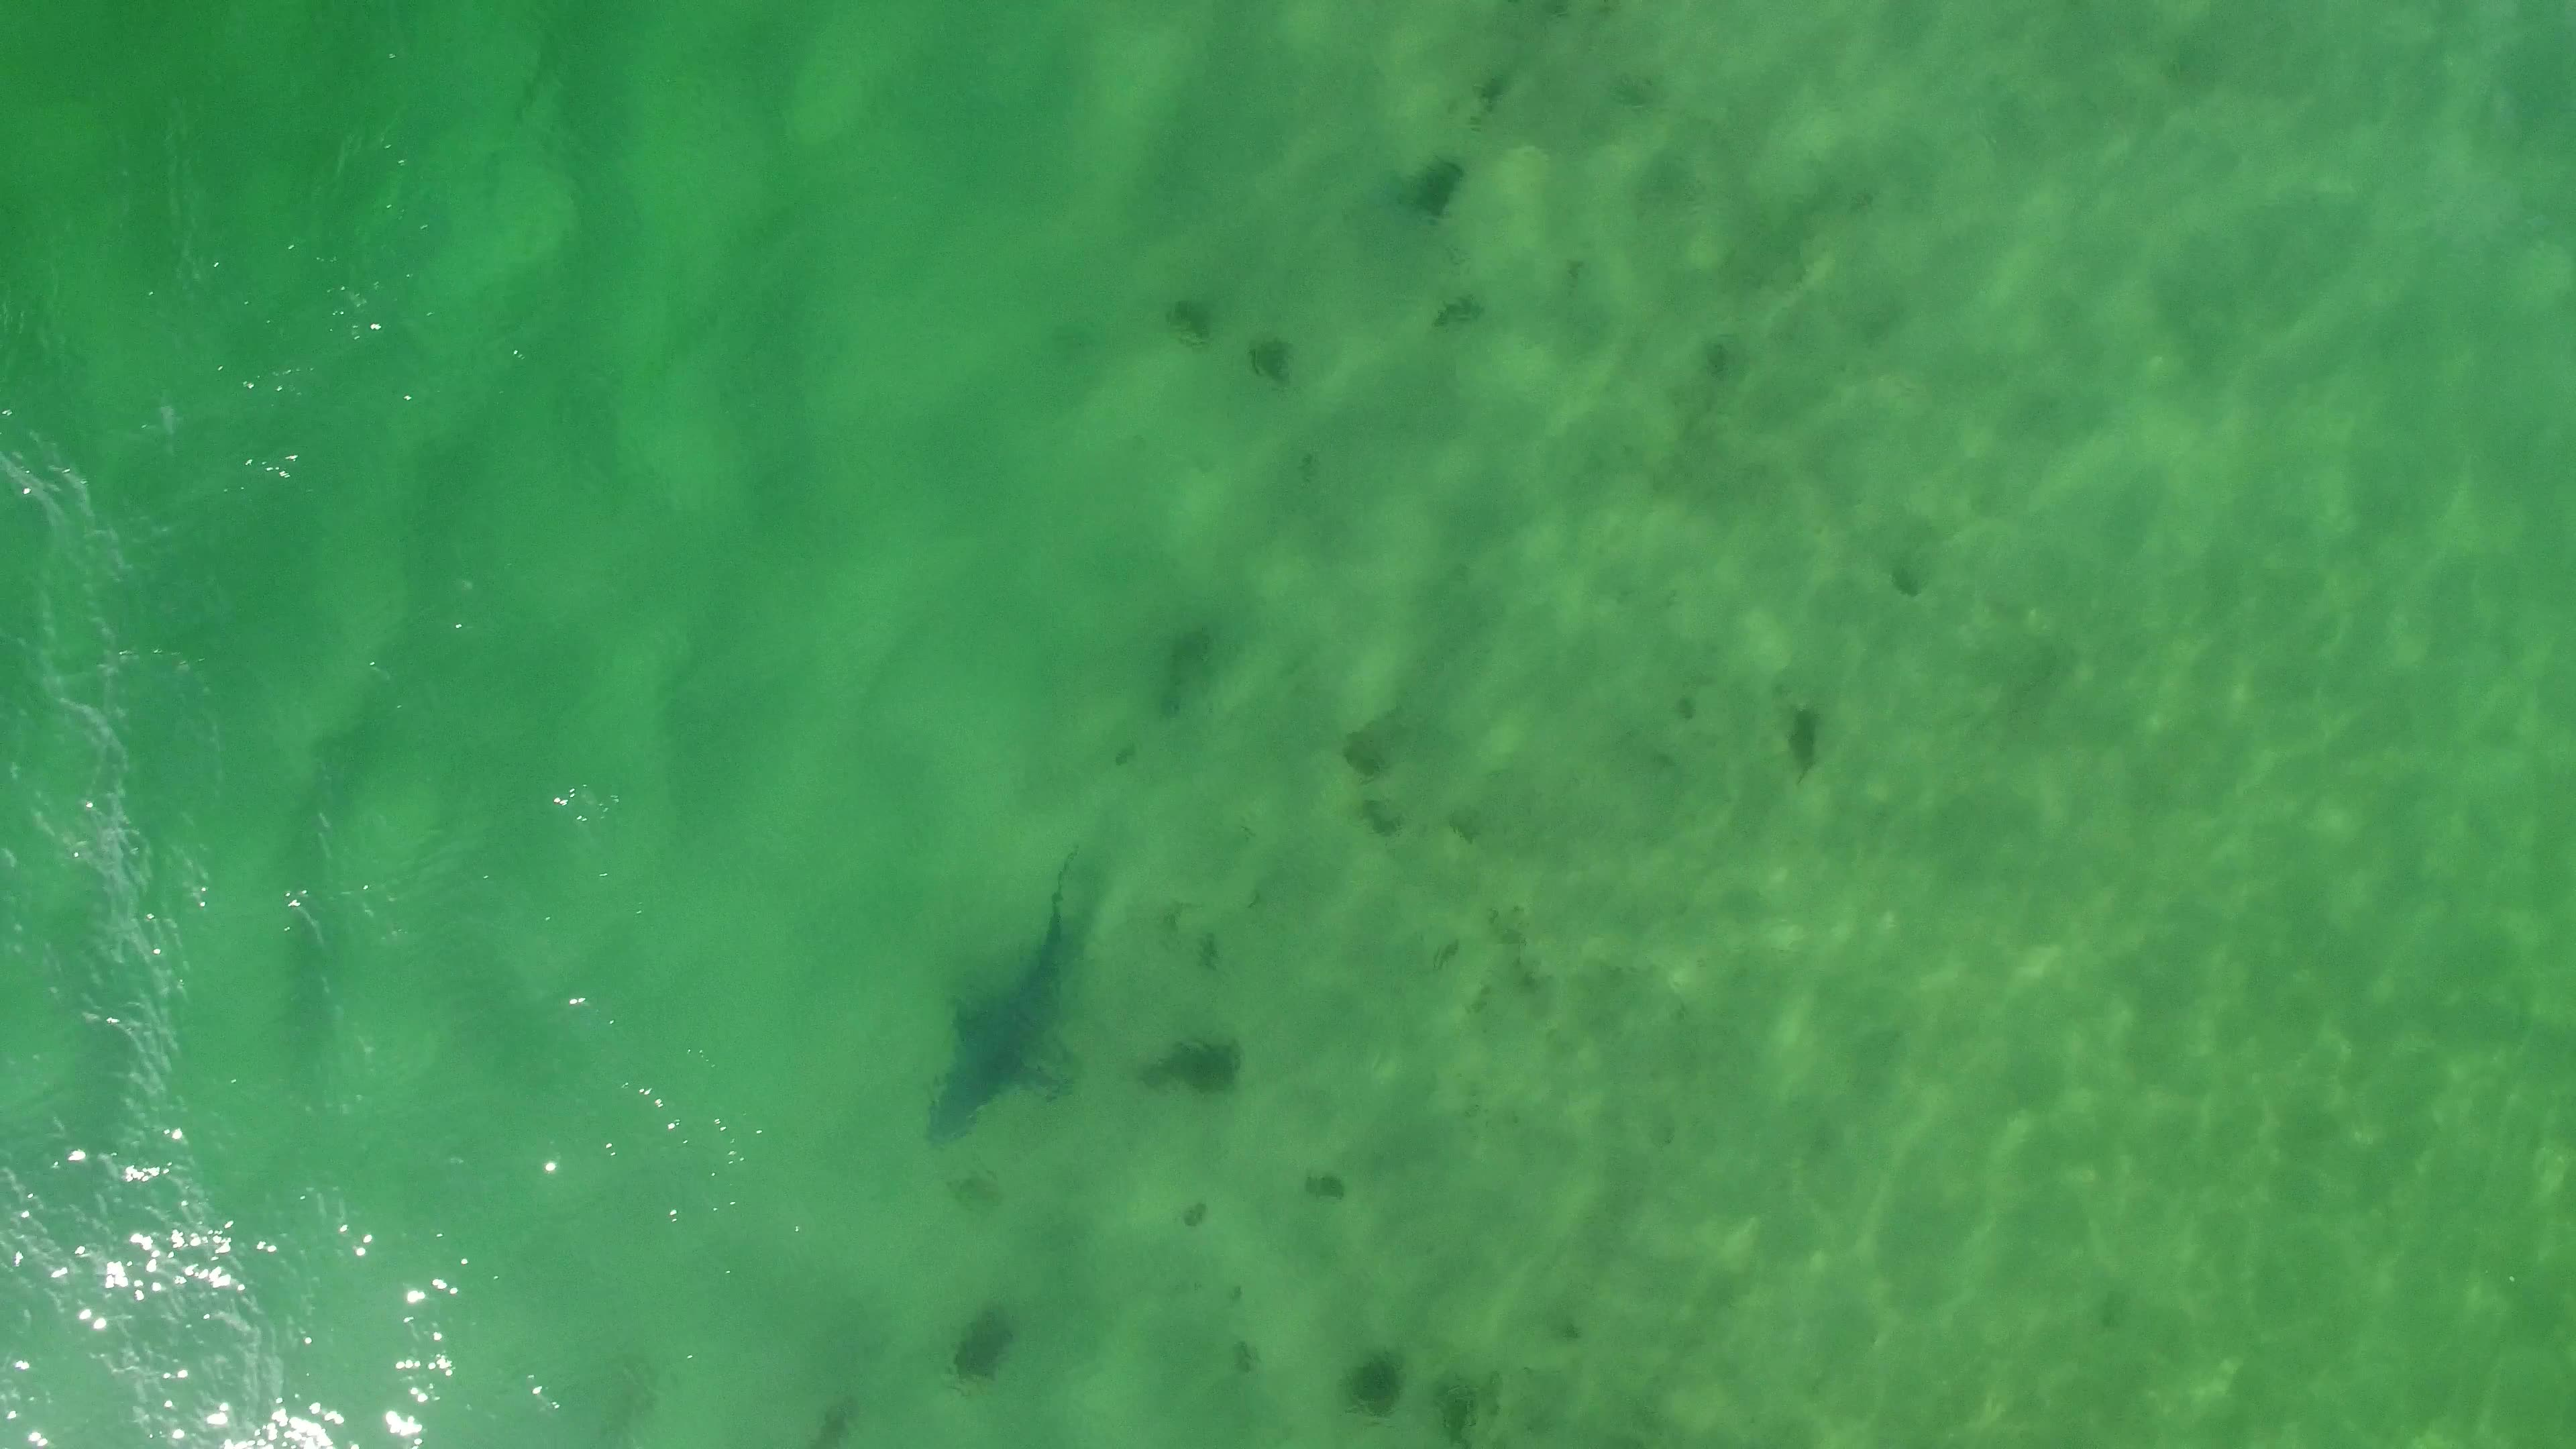shark: (916, 853, 1083, 1152)
